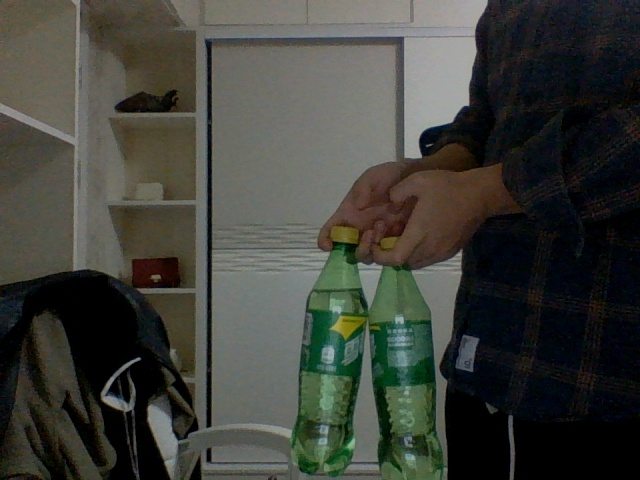Sprite: (291, 226, 367, 475), (366, 238, 443, 478)
